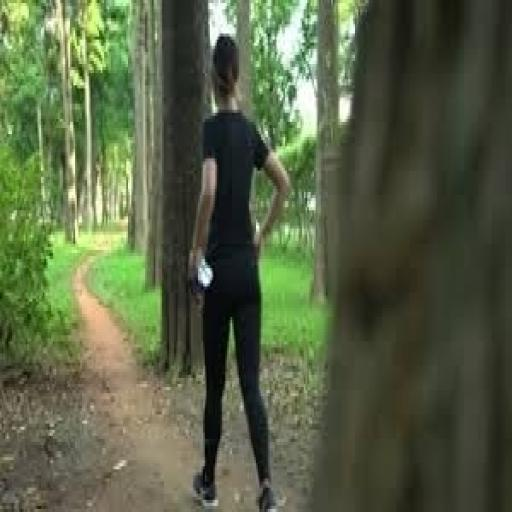running: (184, 30, 292, 509)
